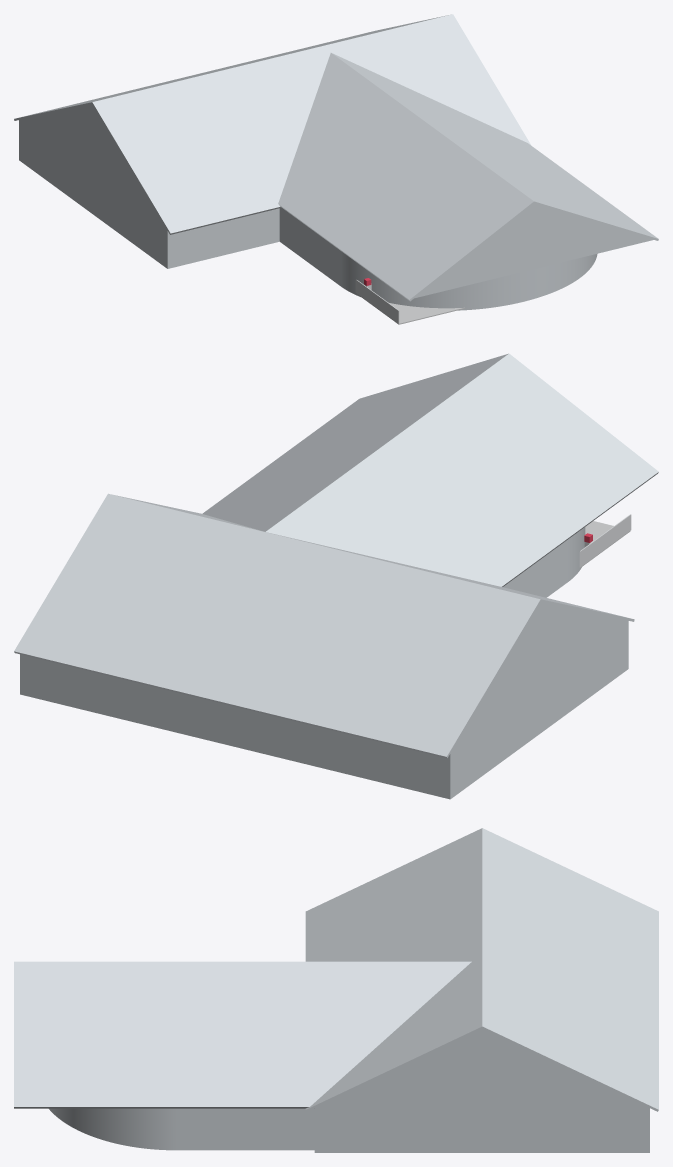
File: melkstal.glb
3 renders of one model, top to bottom at view 1: azimuth 30°, elevation 25°; view 2: azimuth 150°, elevation 25°; view 3: azimuth 270°, elevation 25°, orthographic. The views are drawn at different scales.
Parts seen in each view (by area): view 1: milk & dairy milk & dairy [5681691], MS_Waiting_Floor, MS_Wait_Fence_W; view 2: milk & dairy milk & dairy [5681691], MS_Wait_Fence_W; view 3: milk & dairy milk & dairy [5681691].
Boxes of the visible parts, x1,y1,x2,y2 form: milk & dairy milk & dairy [5681691]: [14, 14, 658, 310]; MS_Waiting_Floor: [357, 294, 464, 324]; MS_Wait_Fence_W: [355, 279, 399, 323]; milk & dairy milk & dairy [5681691]: [14, 353, 658, 799]; MS_Wait_Fence_W: [579, 514, 631, 567]; milk & dairy milk & dairy [5681691]: [14, 828, 658, 1152].
Size of the model in its own units: 37.6 by 11.58 by 51.65.
Materials: 9 (1 with a texture image).
